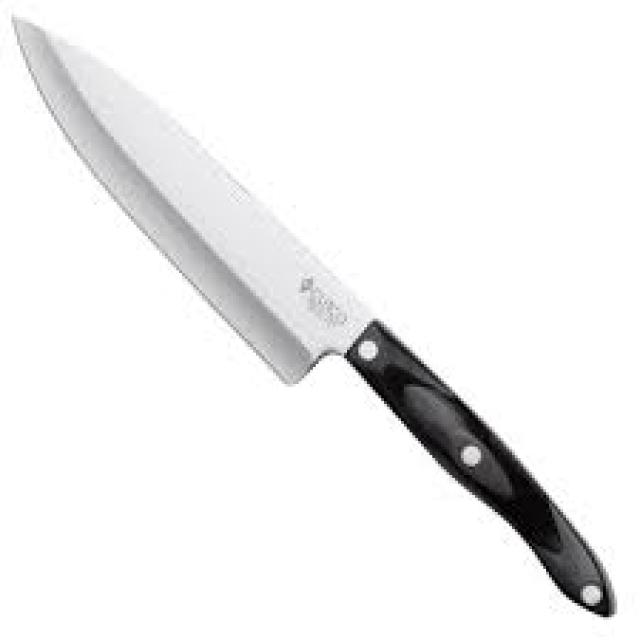knife: (7, 7, 628, 624)
